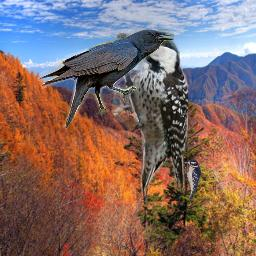Crow: (37, 29, 174, 129)
Woodpecker: (110, 33, 188, 195), (183, 159, 202, 201)
